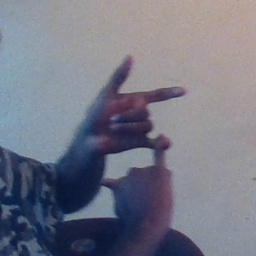S: (76, 53, 195, 207)
